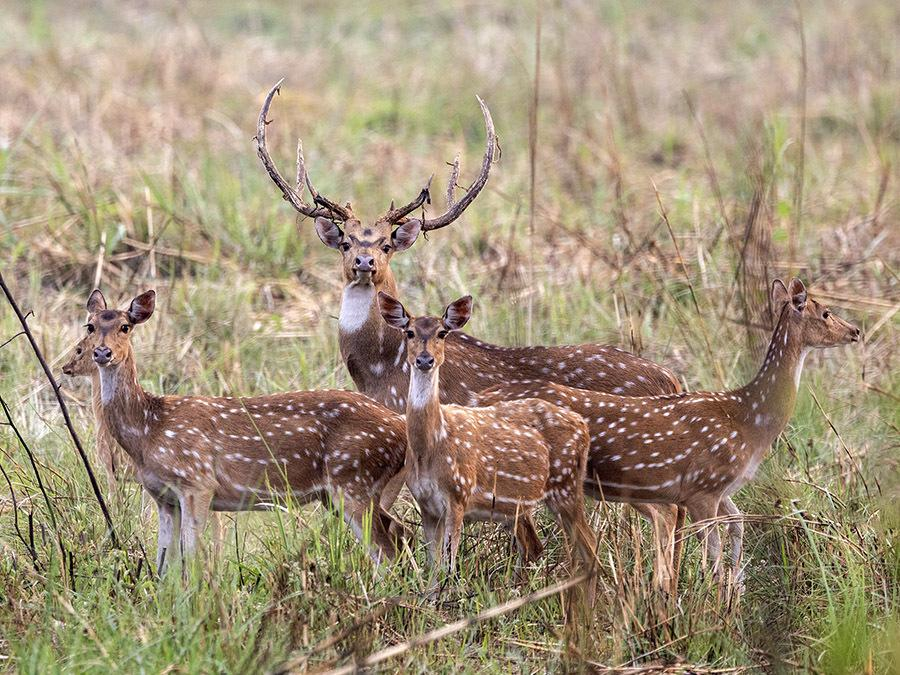Deer: (92, 294, 406, 573), (581, 279, 860, 572), (254, 81, 497, 394), (378, 292, 596, 575)
